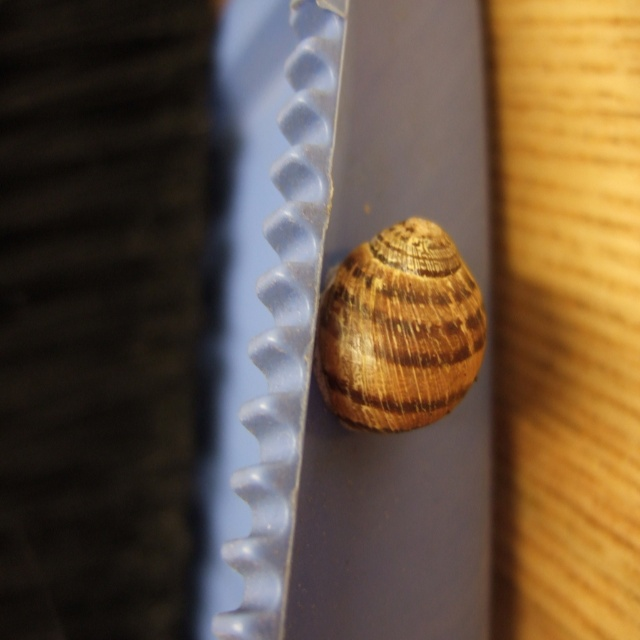Snail: (310, 214, 490, 438)
